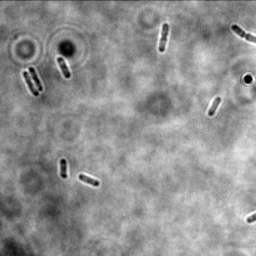Dividing: (21, 70, 41, 97), (229, 24, 255, 44), (157, 22, 171, 53), (28, 66, 44, 92), (207, 96, 222, 117)
Rod: (56, 55, 73, 79), (77, 172, 101, 189), (58, 156, 69, 180)
